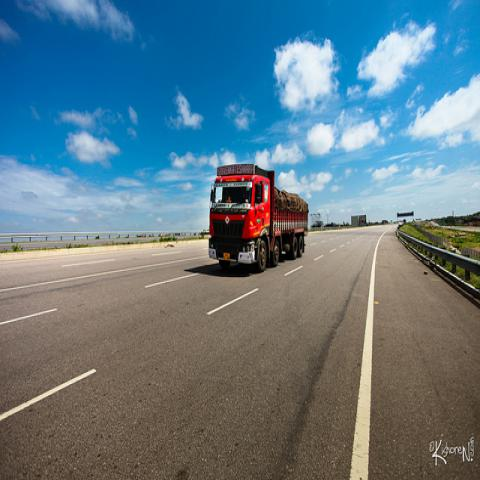truck: (208, 159, 310, 273)
